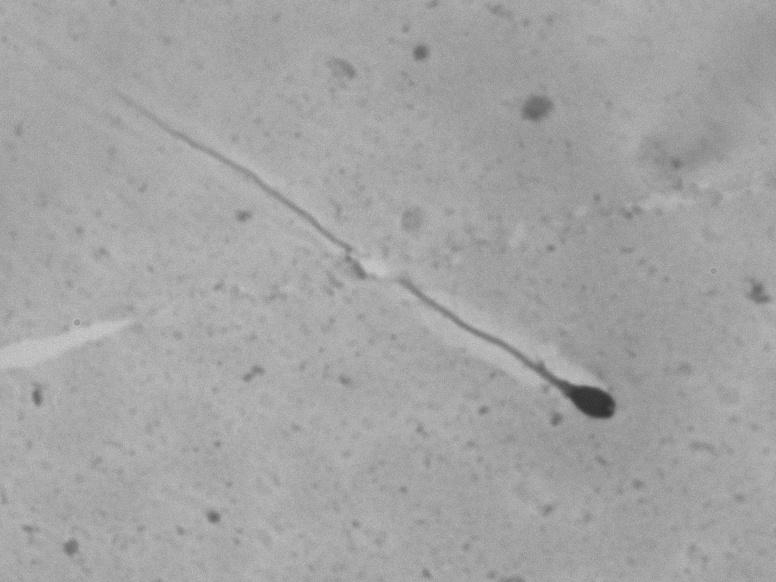Abnormal: (391, 235, 644, 444)
